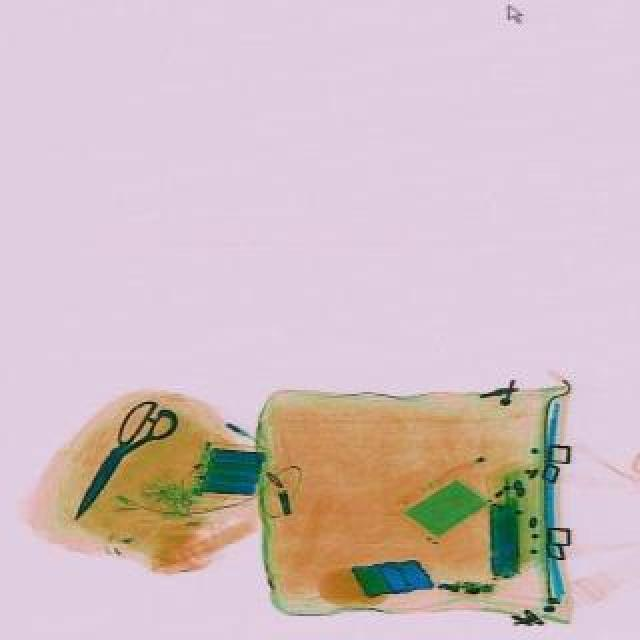pliers: (56, 394, 180, 534)
